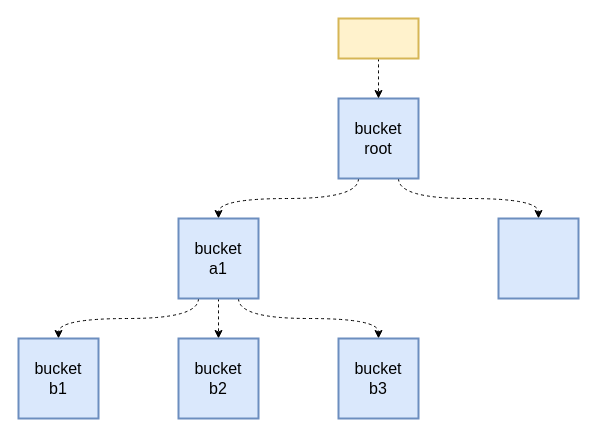
This 596x436 diagram has some shape labels left out. The shapes that lost their labels are listed below. From the top down, each one's box as (x1, y1, x2, y2) in pixels, then its label:
(337, 17, 419, 59): meta.root
(497, 217, 579, 299): bucket a2
